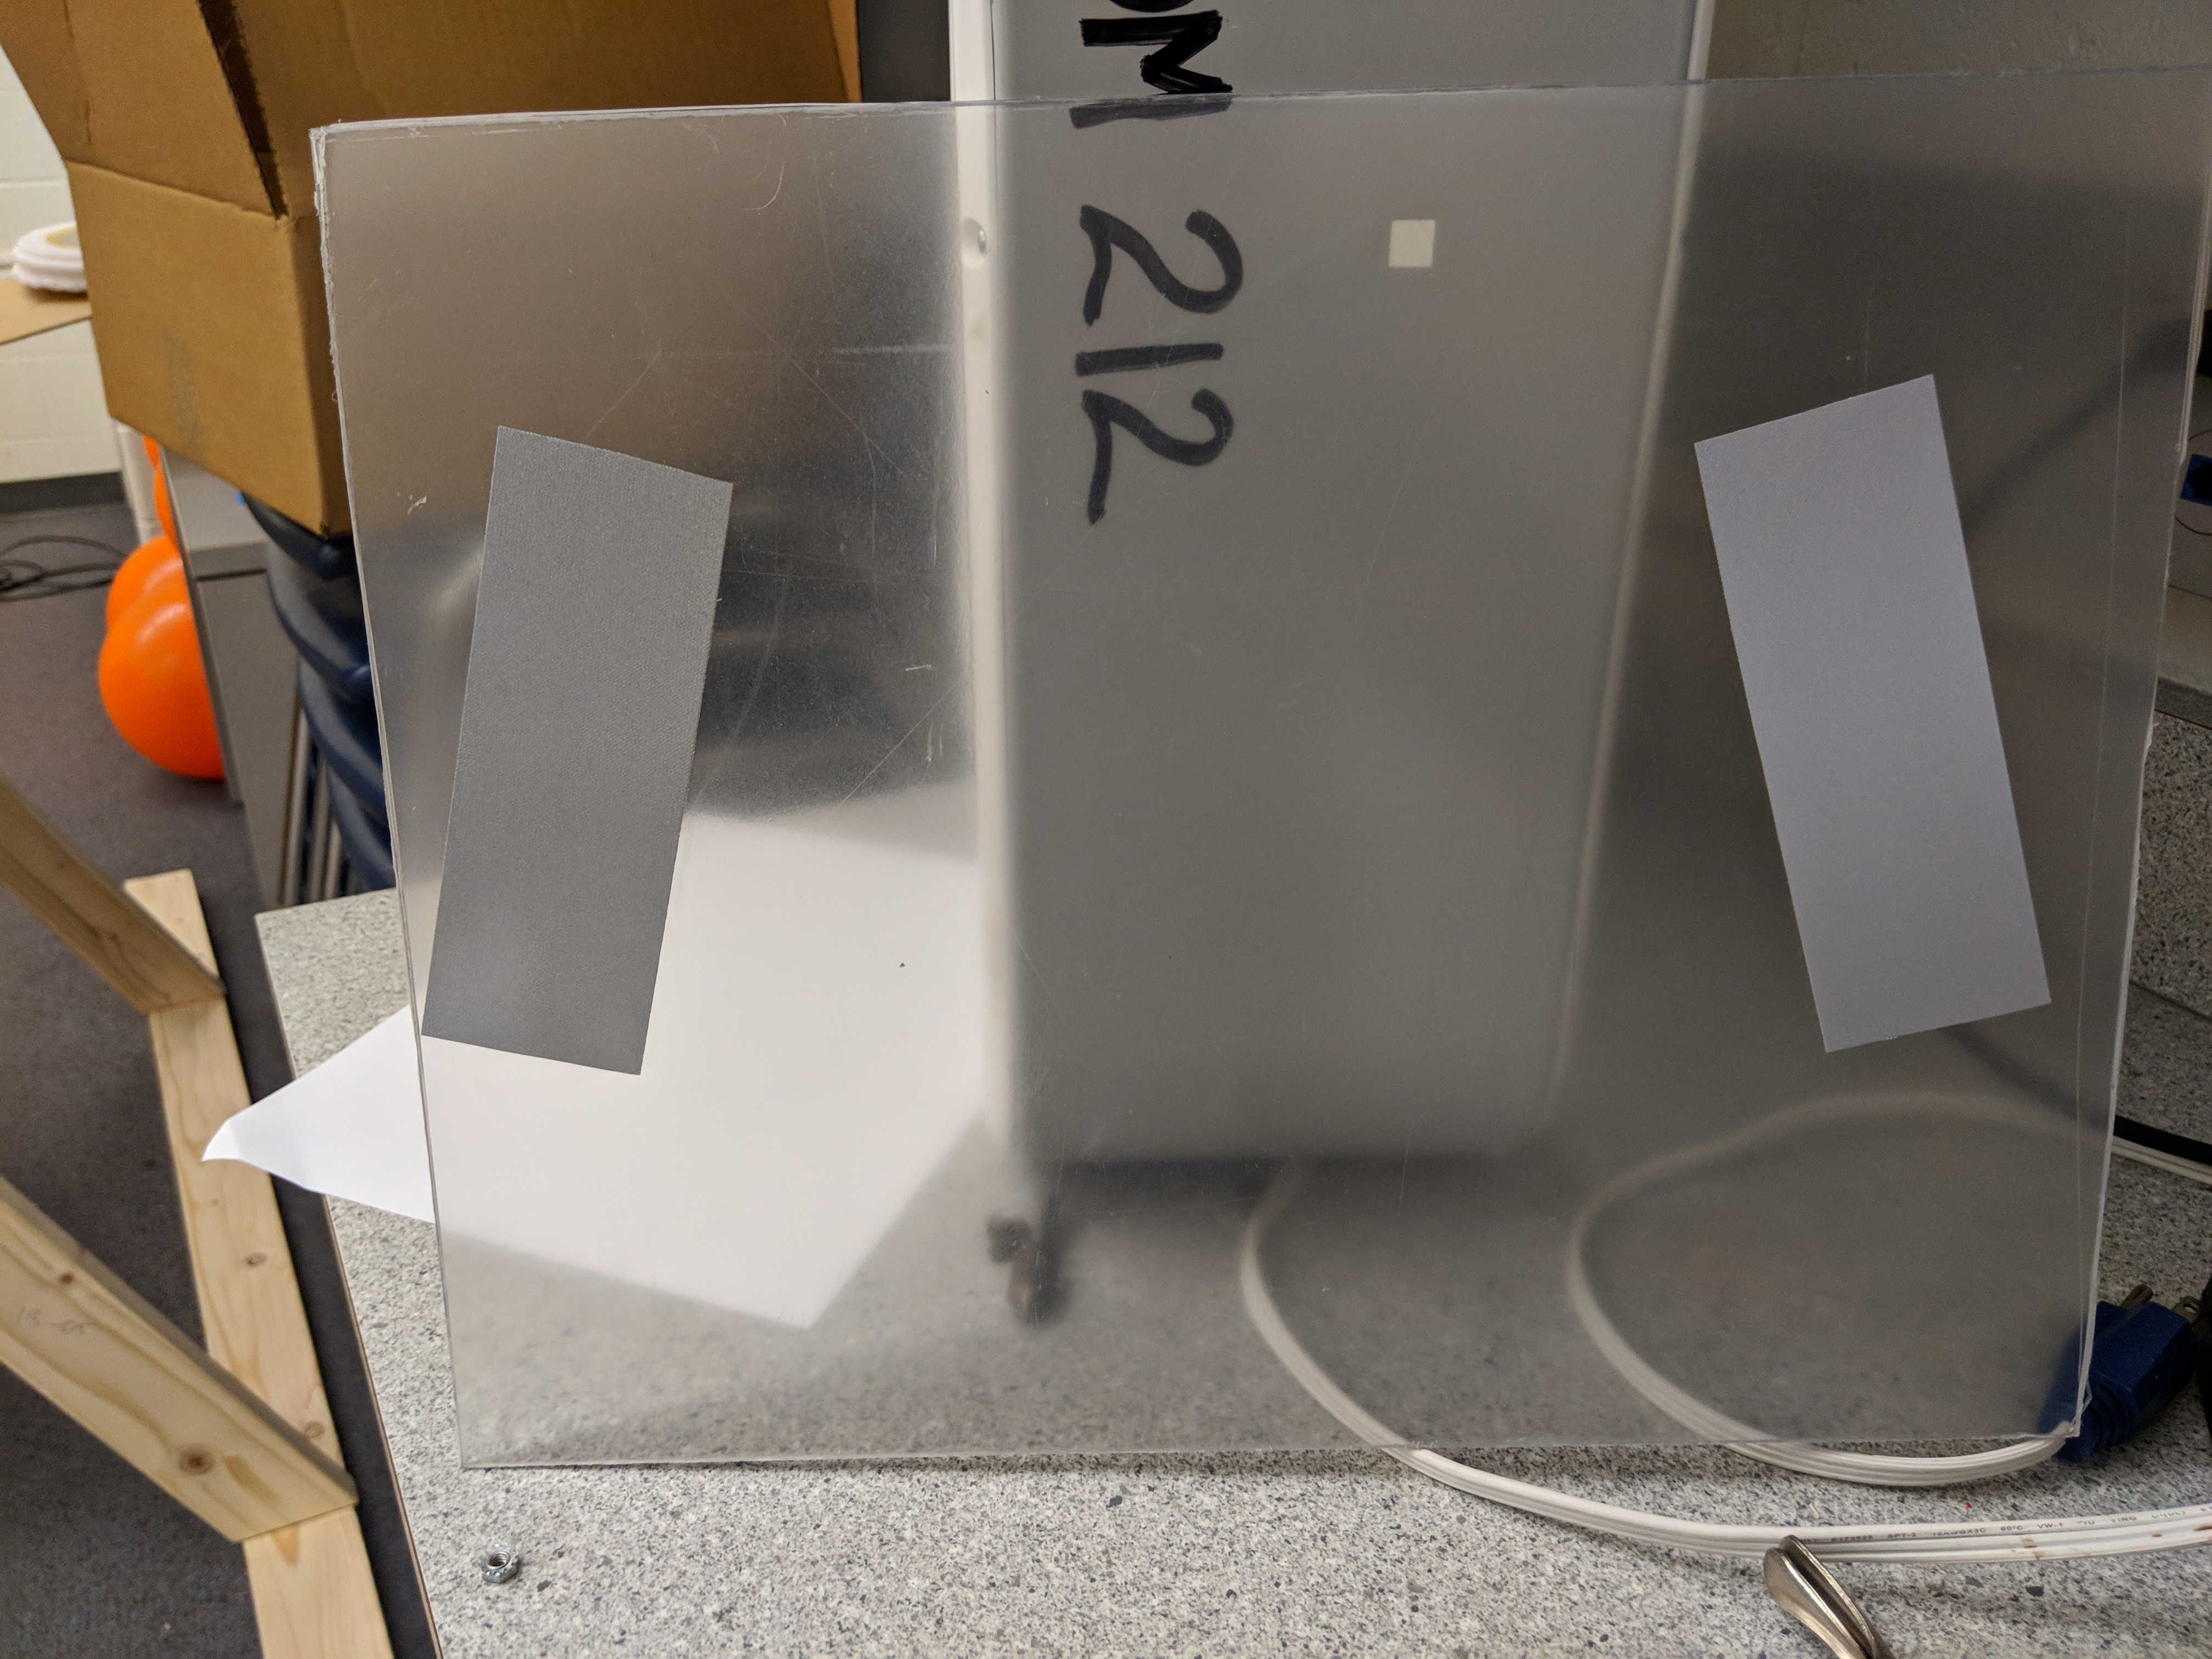vision_target: (413, 369, 2073, 1075)
